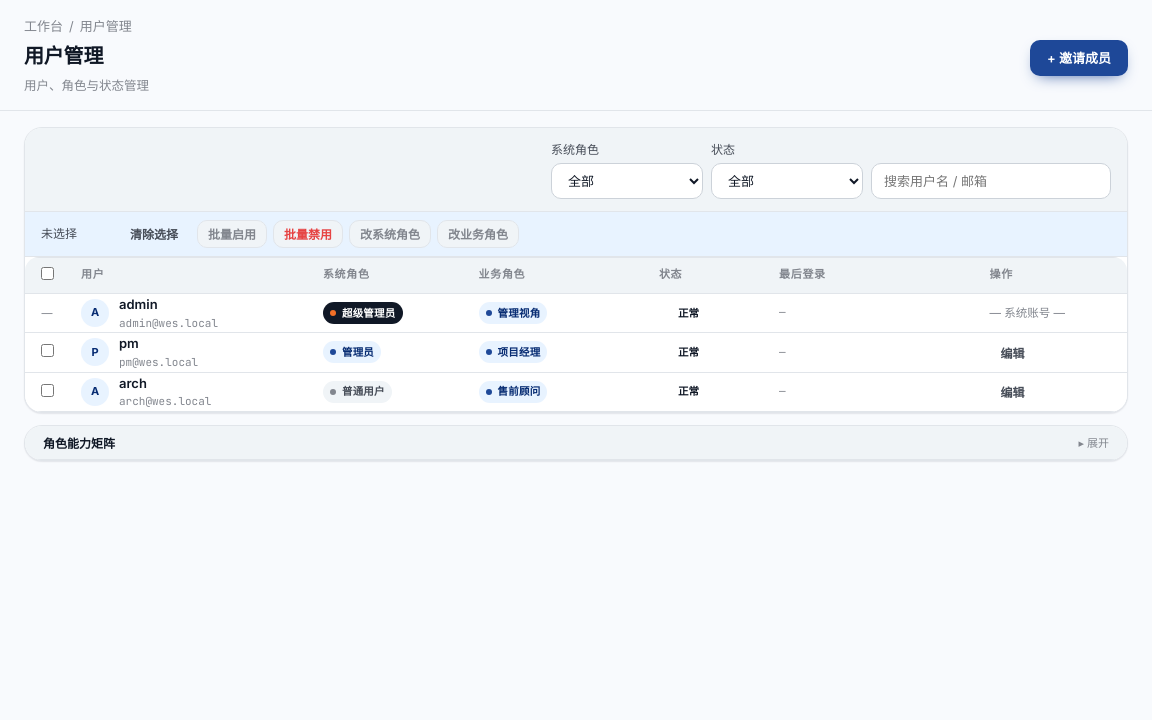
Test: UserManagement › reset failure stays inline and preserves the password form for retry
Click the button with aria-label "编辑 arch": (1012, 392) [990,378,1036,406]
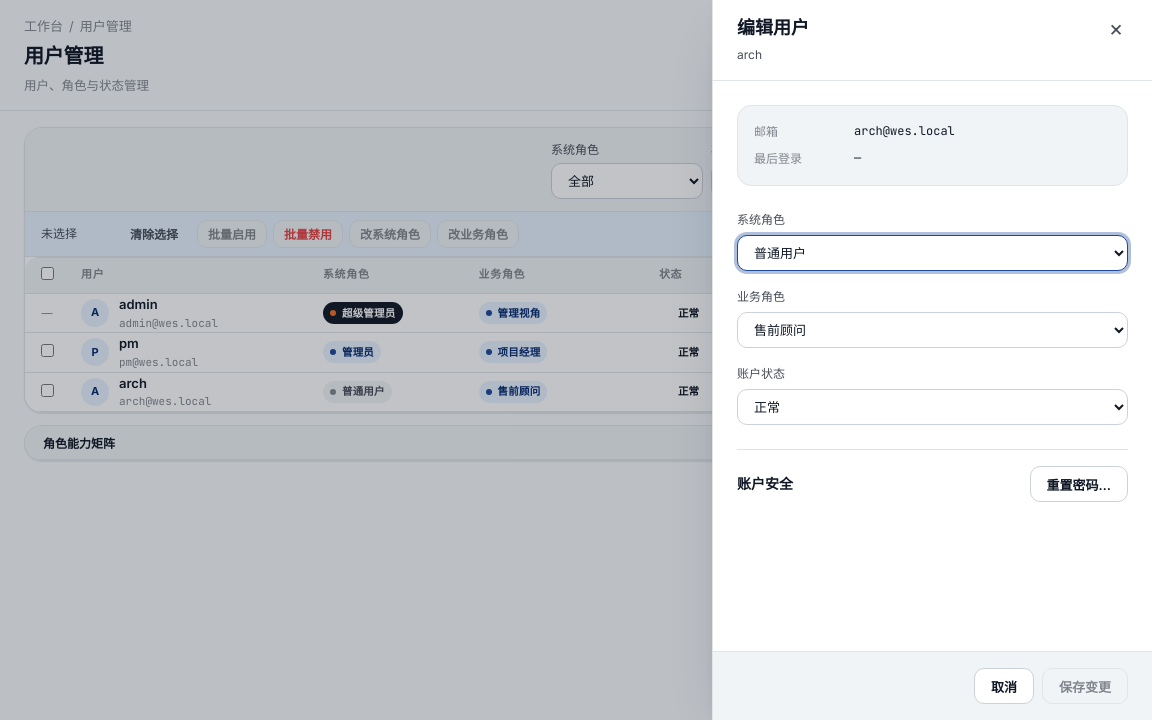
Click the button "重置密码…": (1079, 484) [1030,466,1128,502]
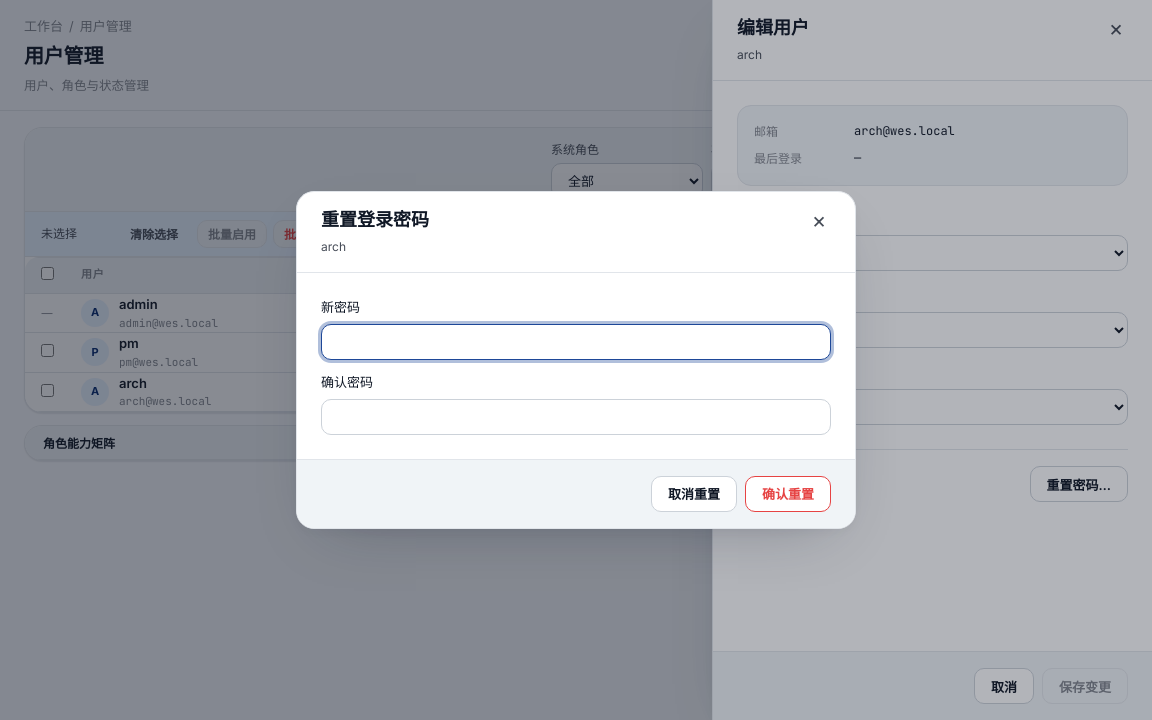
In the password field labelled "新密码": (576, 342) [321,324,831,360], type "valid-pass-88"
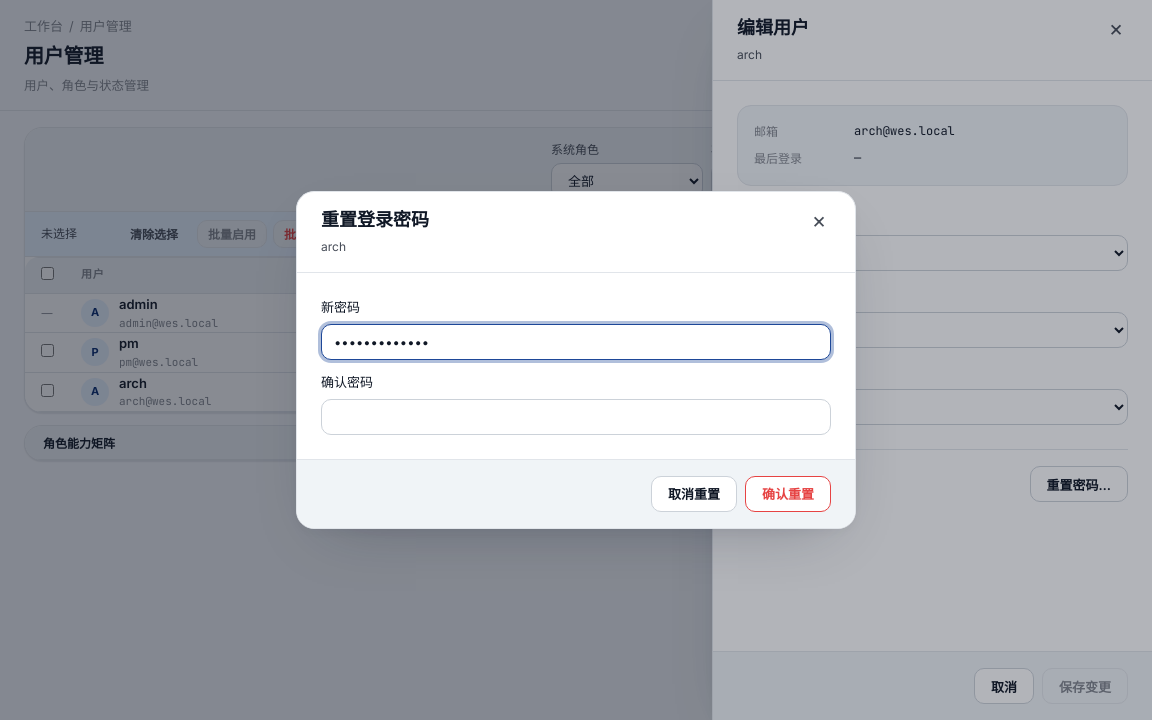
In the password field labelled "确认密码": (576, 417) [321,399,831,435], type "valid-pass-88"
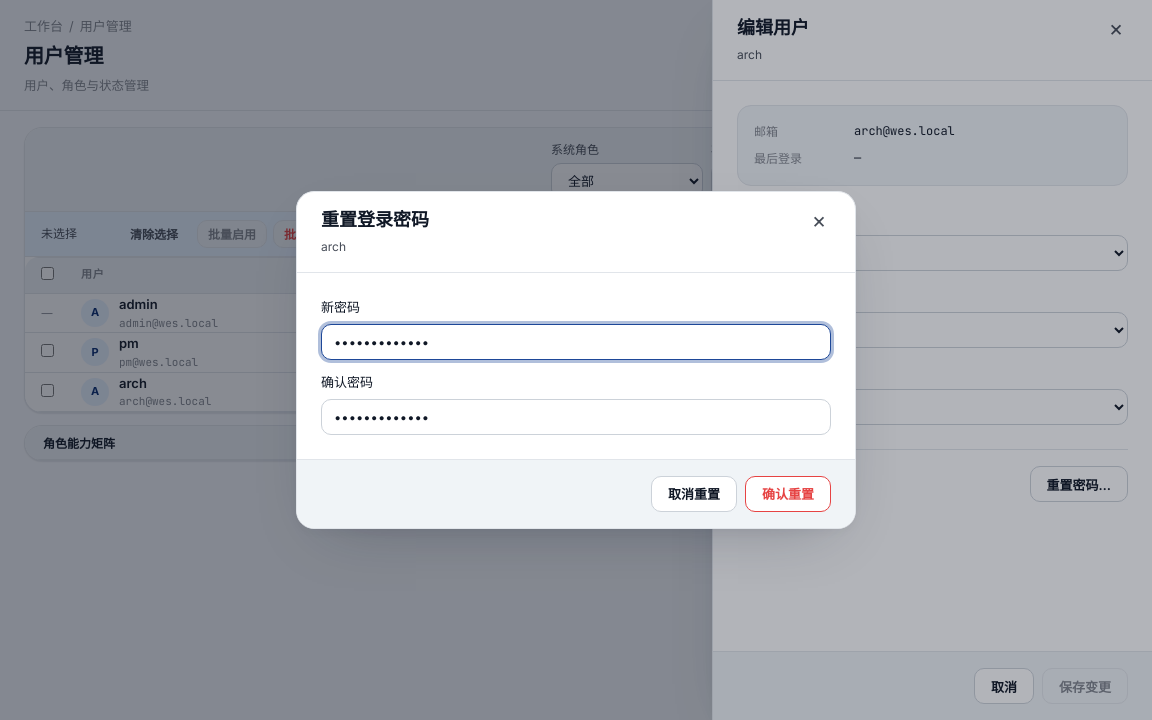
Click the button "确认重置": (788, 494) [745,476,831,512]
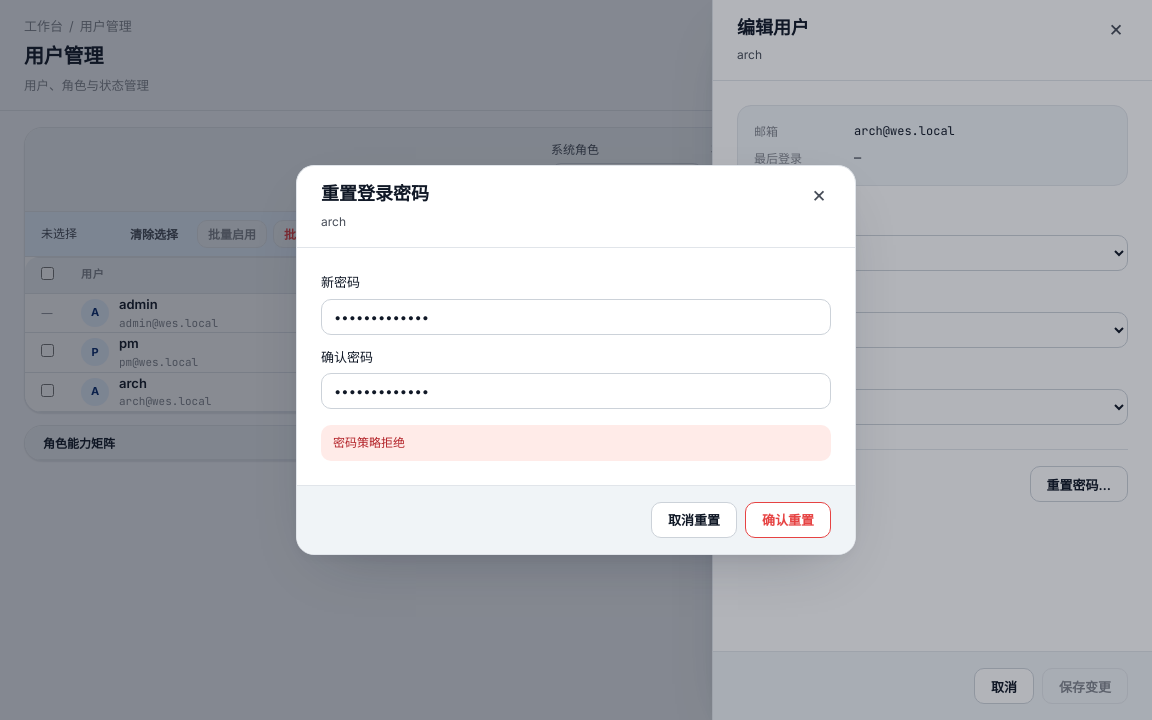
Expected: the button "确认重置" is enabled, [745,502,831,538]
Expected: the message reads "密码策略拒绝", [333,435,405,450]
